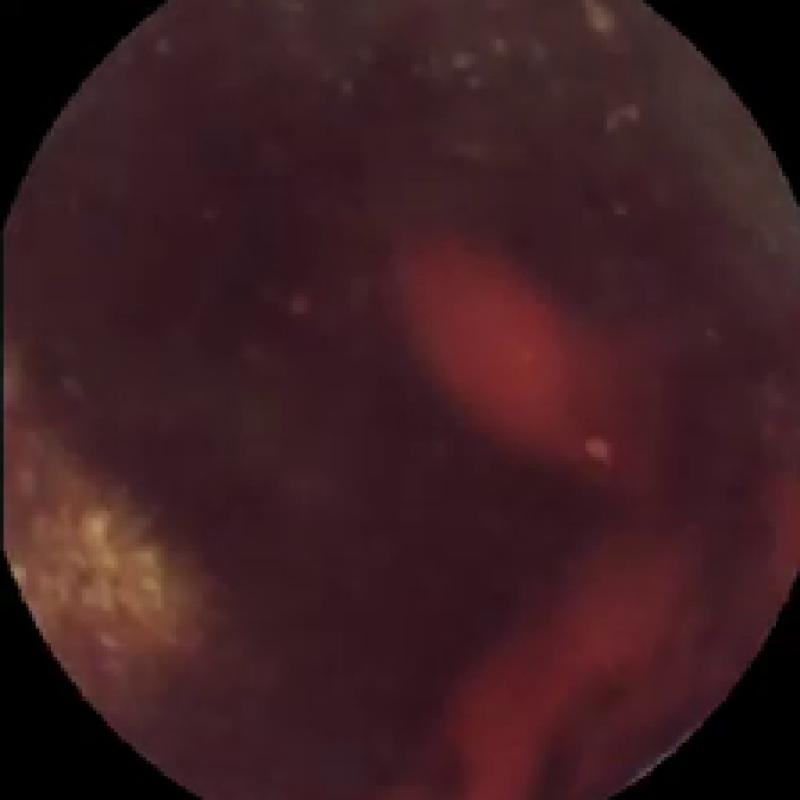bleeding: (437, 514, 667, 800), (375, 221, 604, 475)
